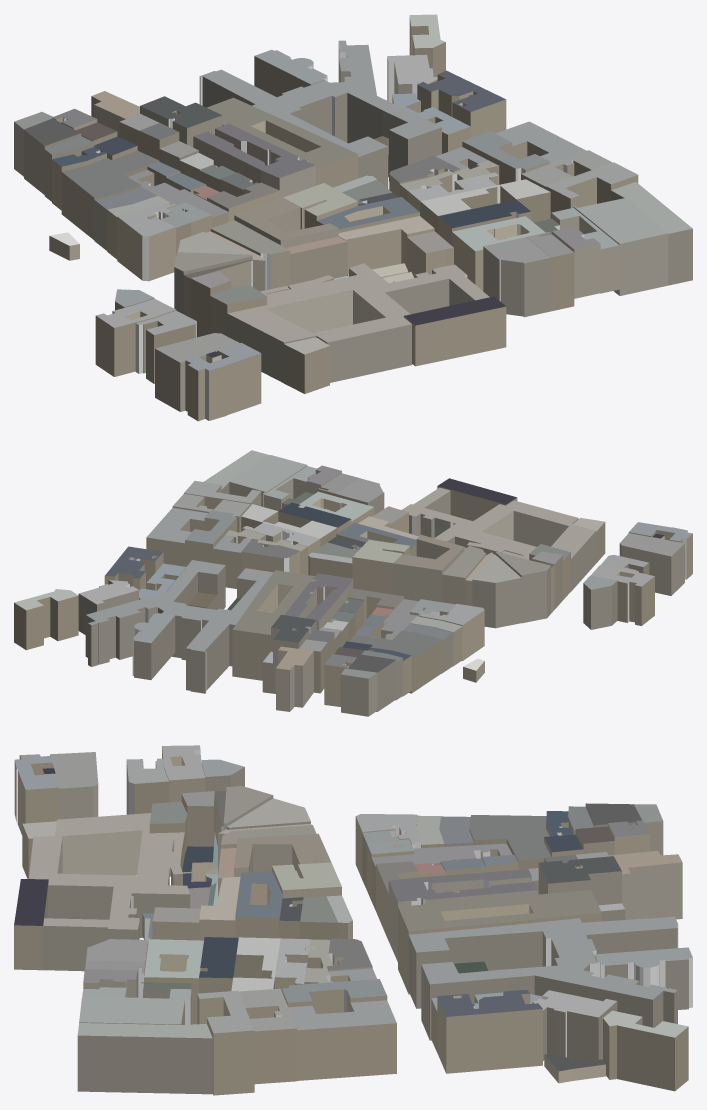
3 renders of one model, top to bottom at view 1: azimuth 30°, elevation 25°; view 2: azimuth 150°, elevation 25°; view 3: azimuth 270°, elevation 25°, orthographic. The views are drawn at different scales.
Parts seen in each view (by area): view 1: tuile; view 2: tuile; view 3: tuile.
Boxes of the visible parts, <box> form: tuile: <box>14,14,692,421</box>; tuile: <box>14,450,692,716</box>; tuile: <box>14,745,692,1095</box>.
Bounding box in the file's own units: 275 × 32.19 × 266.
